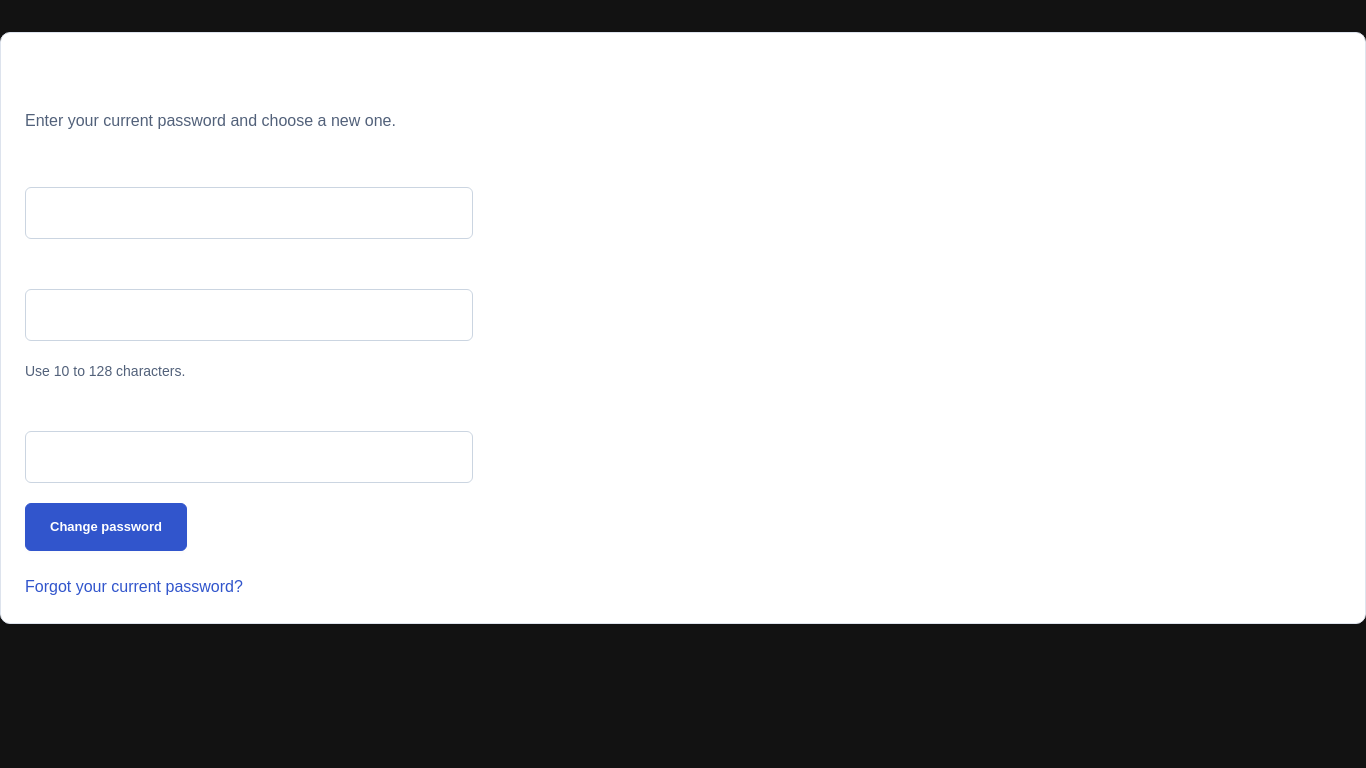
it: validates passwords before submitting
The width and height of the screenshot is (1366, 768).
In the password field labelled "New Password": (249, 315) [25, 289, 473, 341], type "short"
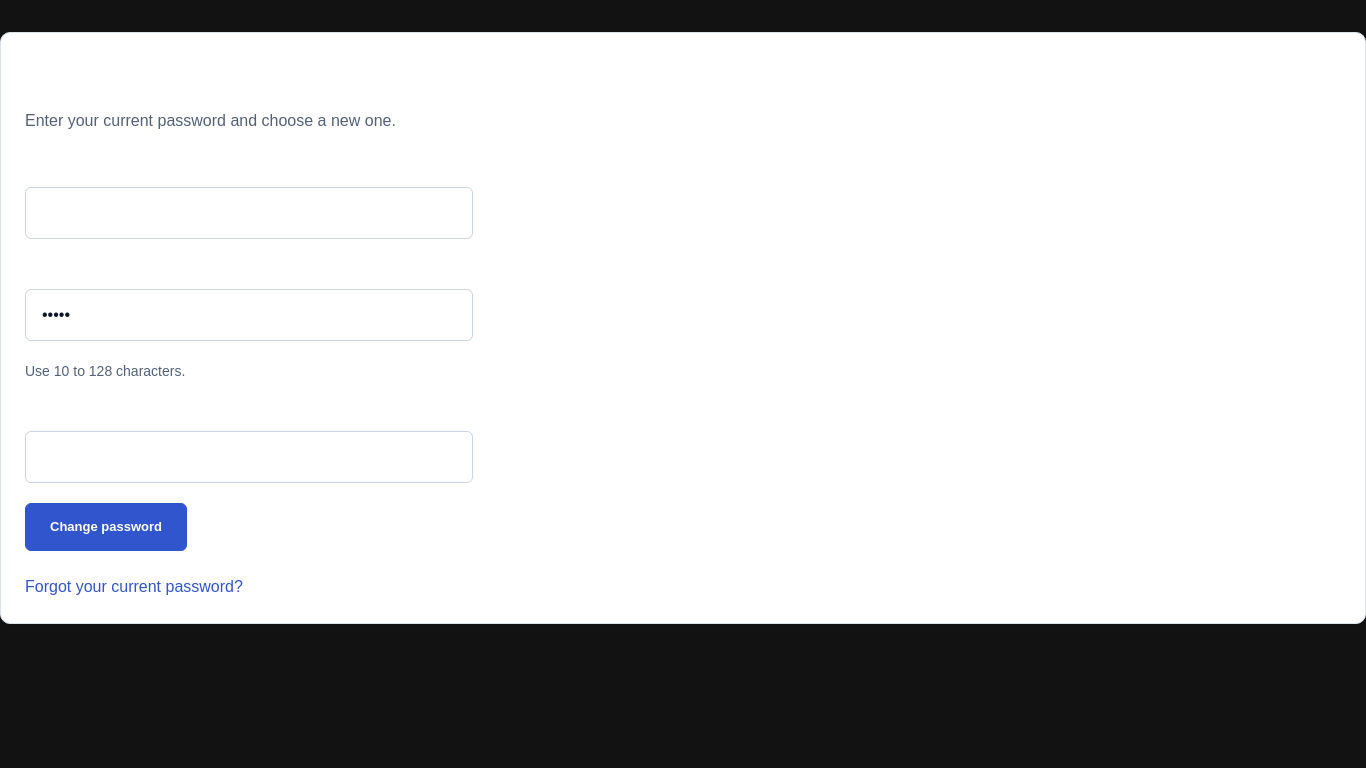
In the password field labelled "Confirm New Password": (249, 457) [25, 431, 473, 483], type "short"
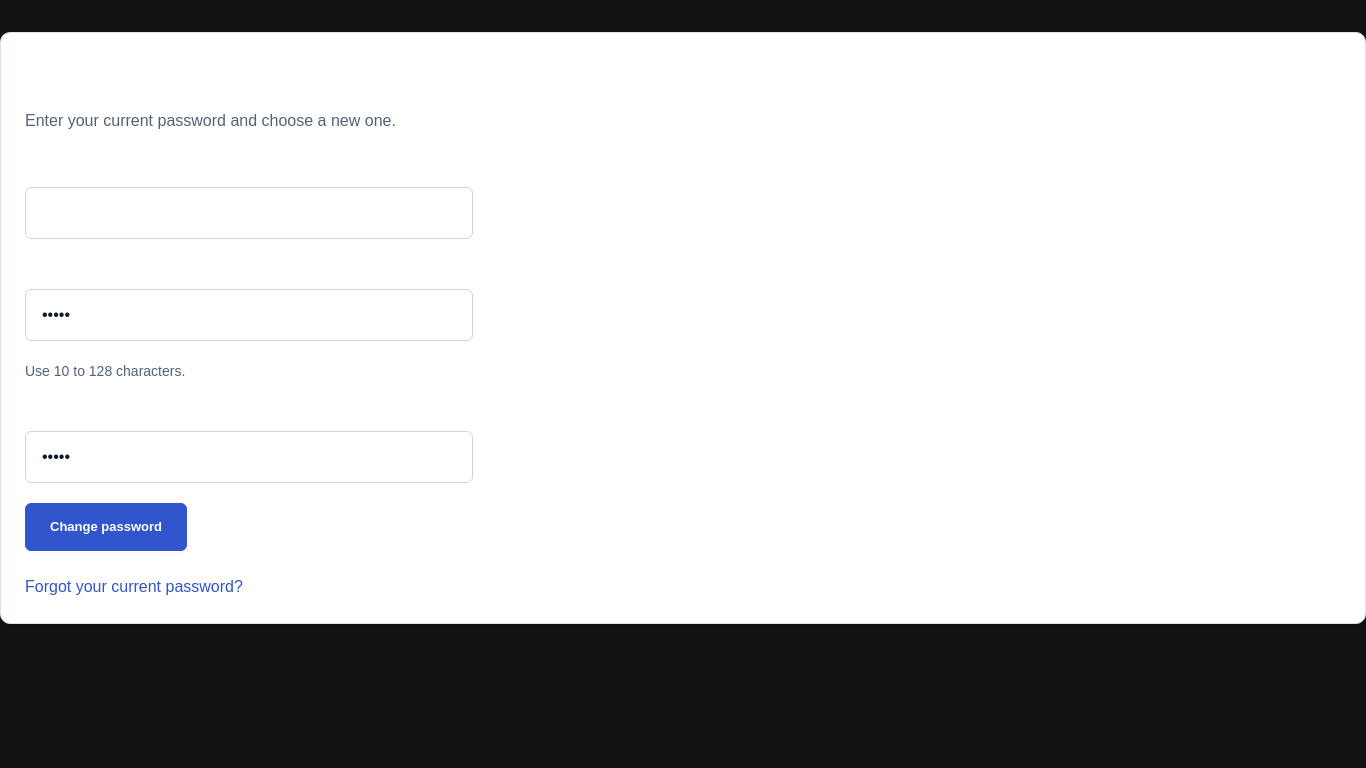
Submit the form, box [25, 157, 473, 551]
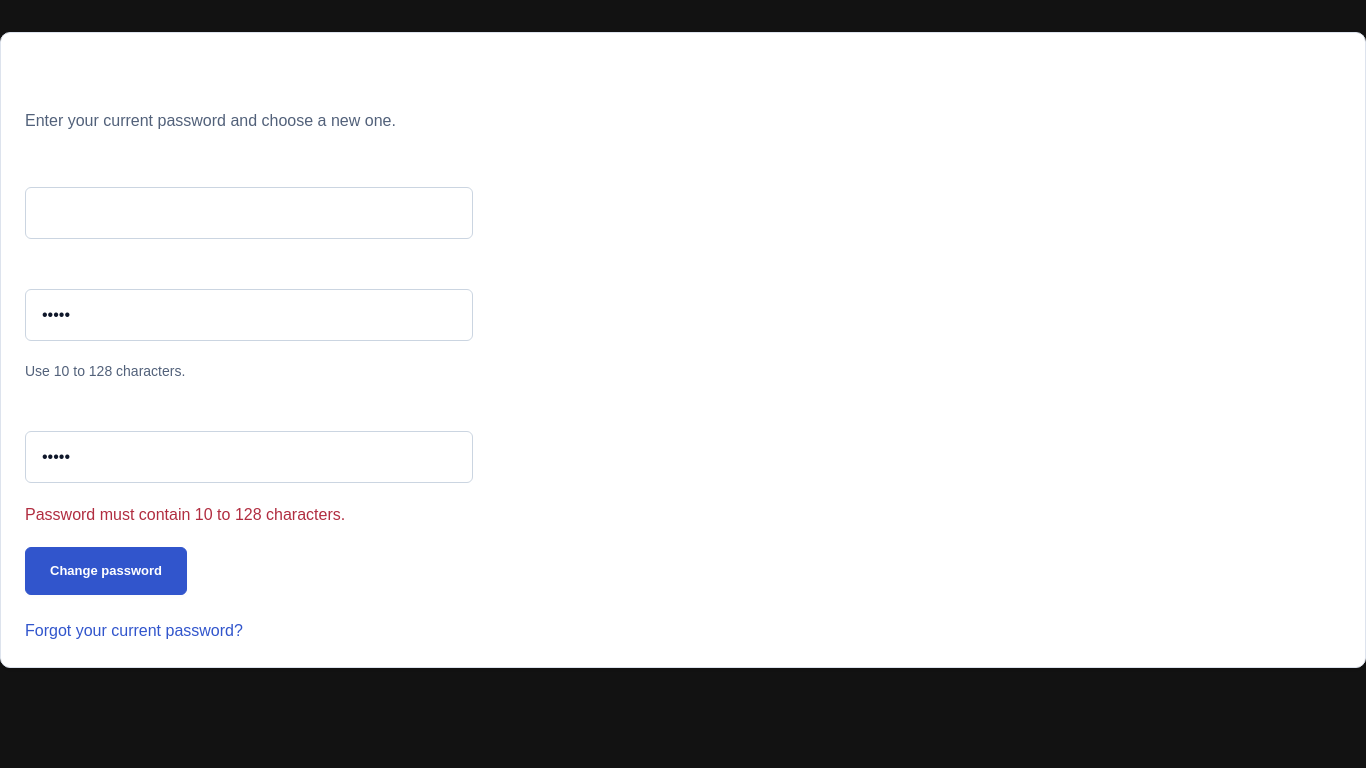
expect the message shows "10 to 128": met, box [25, 506, 345, 523]
